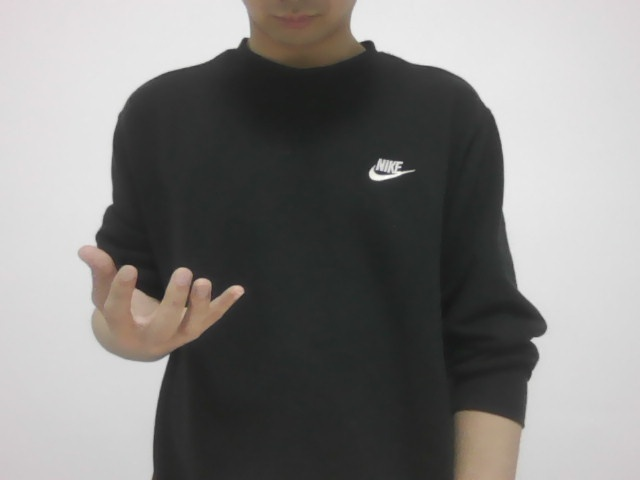flavor: (59, 234, 257, 364)
